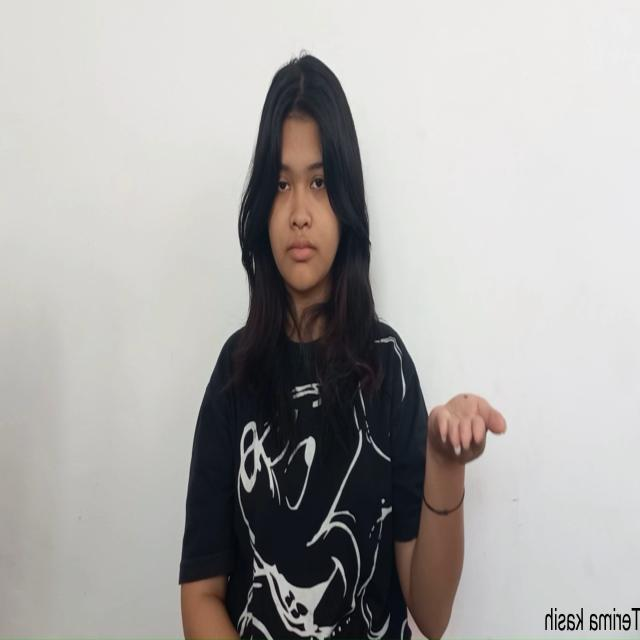Terima kasih -BISINDO-: (423, 385, 511, 471)
